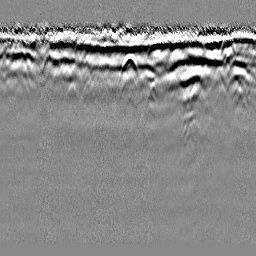cavity: (118, 52, 139, 84)
